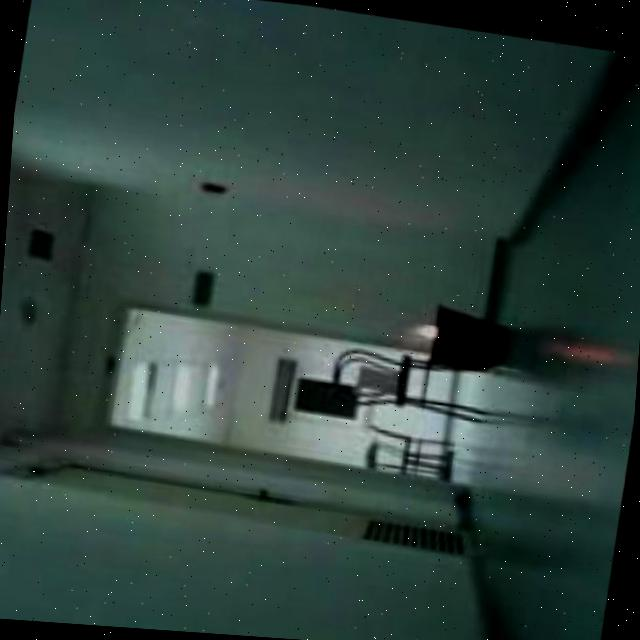fire: (403, 311, 442, 338)
